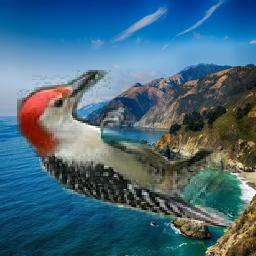Woodpecker: (17, 71, 235, 228)
